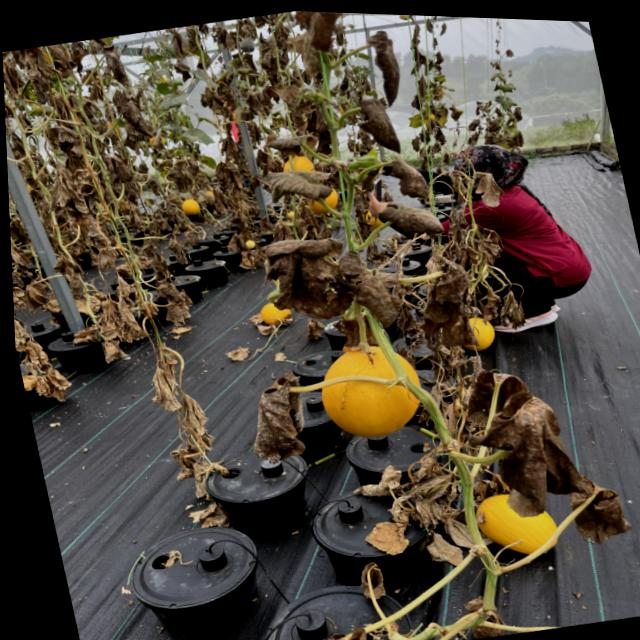bacterial wilt: (449, 356, 584, 527), (260, 234, 350, 328), (415, 251, 484, 351), (239, 372, 310, 461), (397, 449, 459, 526), (565, 475, 630, 547), (55, 177, 111, 259), (336, 247, 391, 327), (372, 196, 446, 245), (364, 30, 406, 111), (262, 162, 337, 205), (173, 440, 221, 500), (103, 280, 148, 341), (145, 349, 186, 415), (353, 97, 397, 155), (172, 392, 211, 456), (265, 82, 318, 129), (256, 31, 296, 85), (17, 43, 61, 91), (106, 89, 150, 135), (363, 518, 412, 556), (424, 527, 464, 573), (356, 464, 405, 501), (303, 11, 345, 52), (191, 78, 235, 116), (299, 619, 378, 640), (159, 277, 194, 324), (445, 513, 484, 553), (19, 276, 57, 314), (260, 134, 315, 159), (60, 178, 95, 214), (151, 195, 185, 230), (50, 122, 81, 159), (103, 152, 138, 184), (169, 33, 195, 76), (98, 52, 125, 82), (12, 270, 28, 306), (3, 59, 19, 95)
